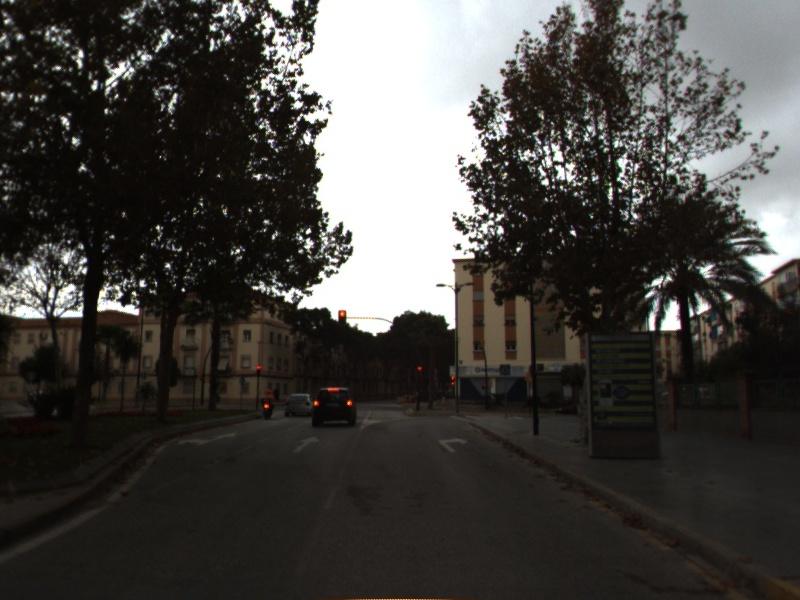RIGHT: (435, 433, 471, 455)
STRAIGHT: (289, 433, 323, 455)
STRAIGHT_LEFT: (175, 428, 241, 448)
